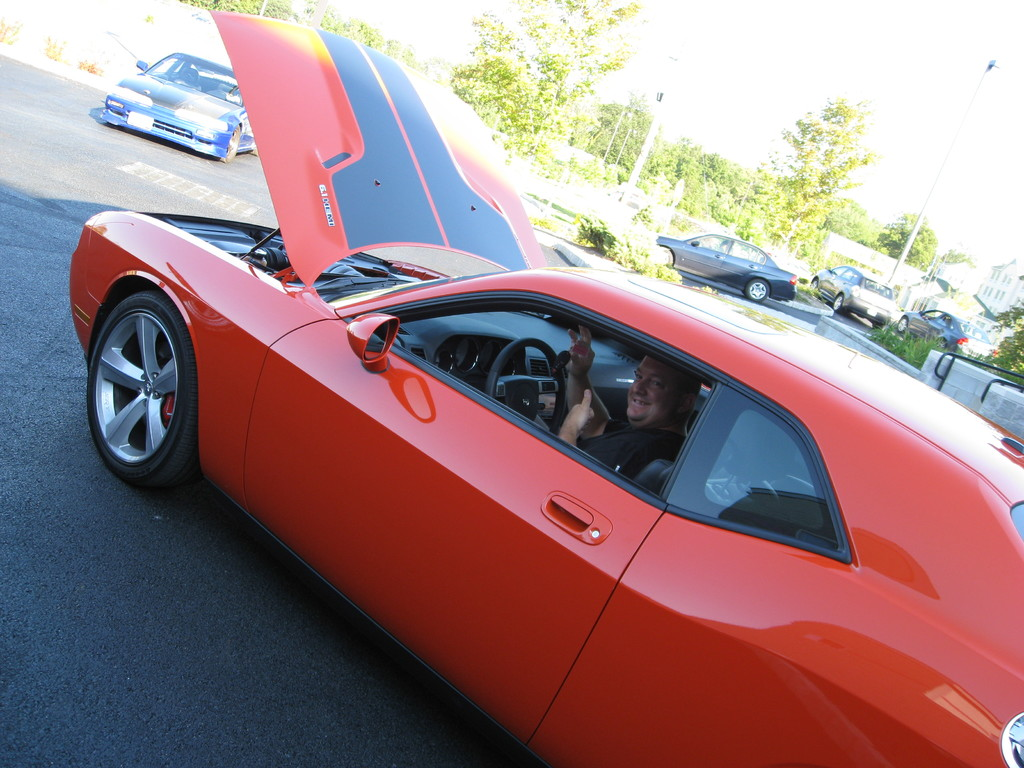Car: (64, 8, 1023, 767), (101, 47, 260, 159), (655, 228, 800, 297), (899, 307, 990, 351), (811, 266, 889, 316)
